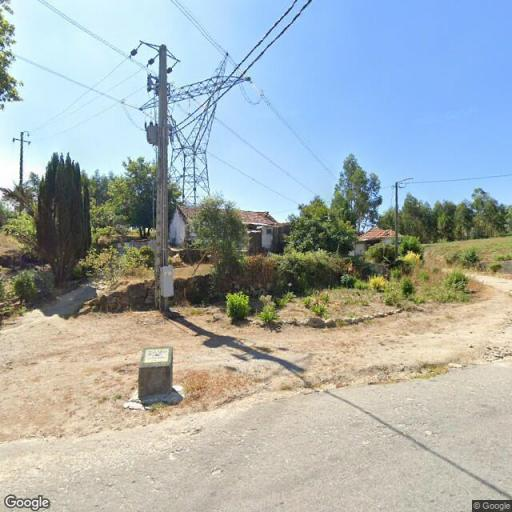mono_7: (129, 38, 181, 312), (13, 130, 30, 212)
wt_5: (136, 52, 253, 204)
